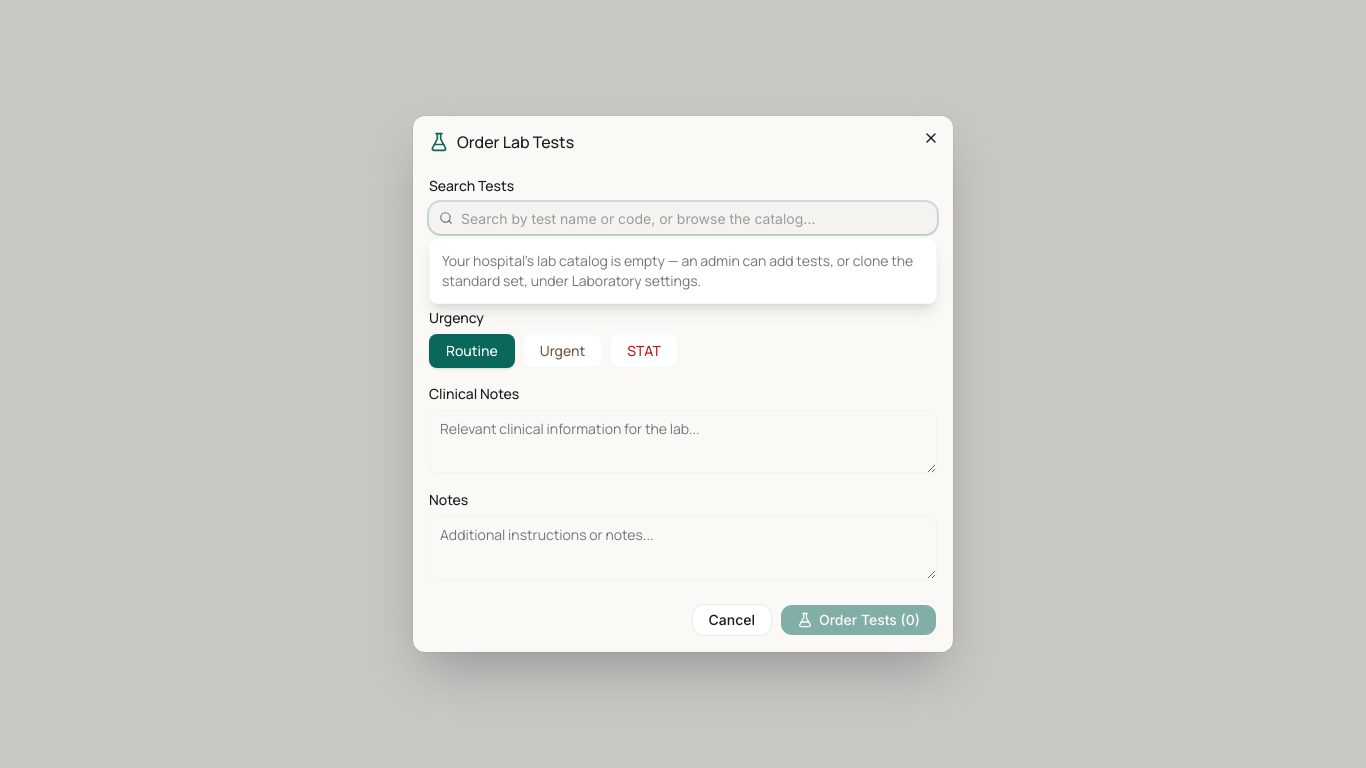
Test: the lab test picker › explains an empty result rather than showing a blank box
The width and height of the screenshot is (1366, 768).
Type "zzz" into the field with placeholder "Search by test name or code, or browse the catalog..." at [683, 218], box [429,202,937,234]
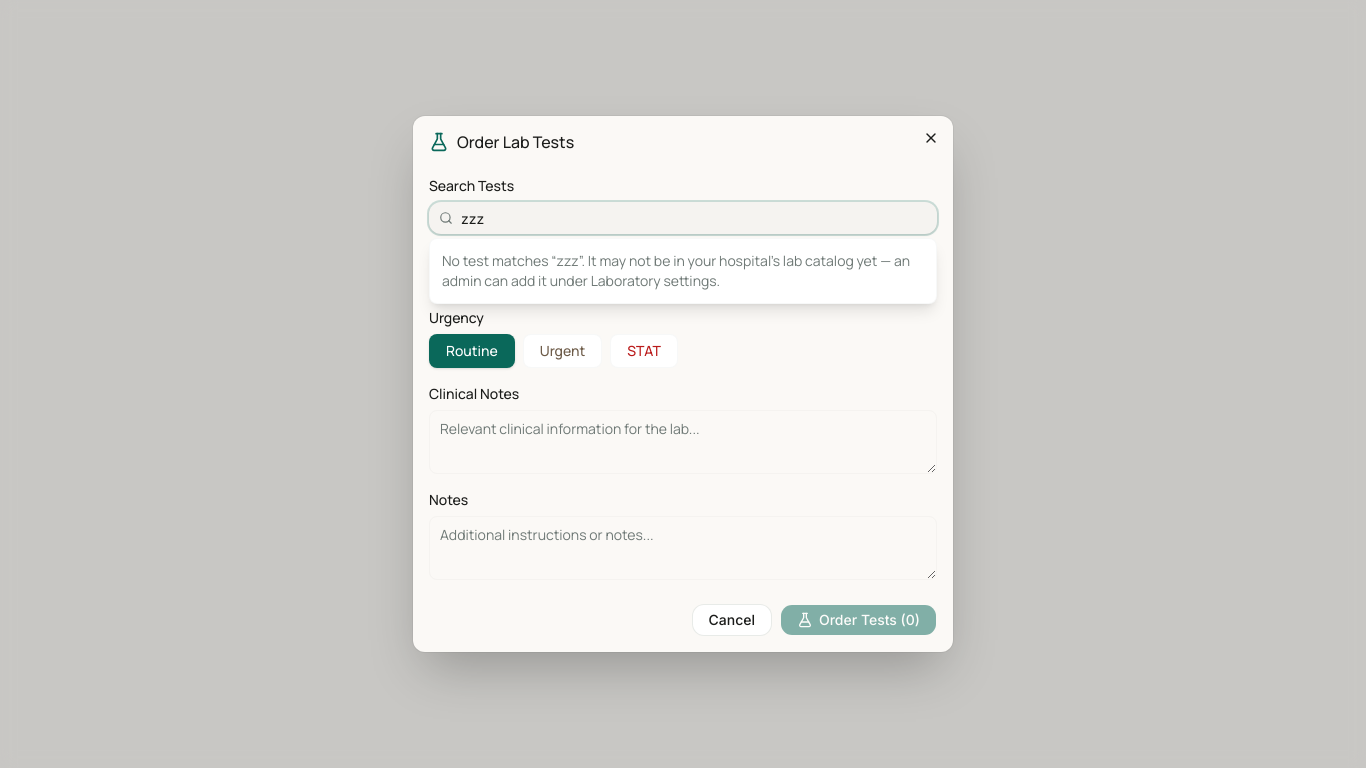
Result: the text "may not be in your hospital" is shown at [442,251,910,290]
